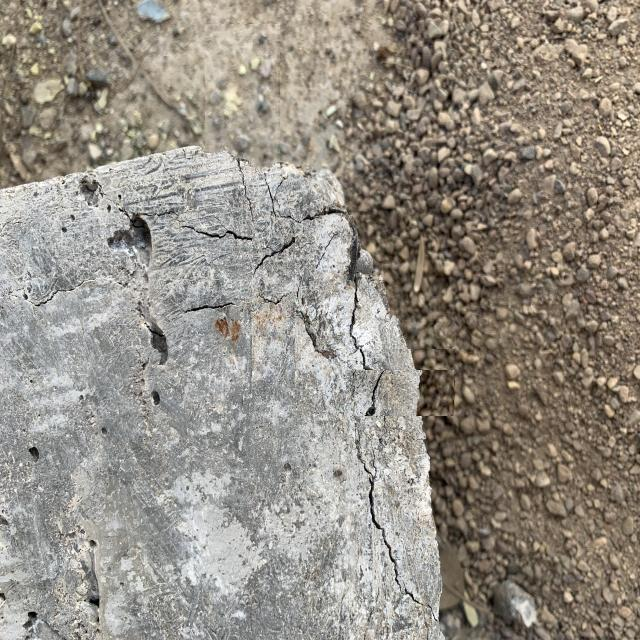diagonal crack: (289, 298, 342, 382), (251, 240, 306, 282)
horizontal crack: (160, 289, 246, 323), (183, 210, 259, 248), (278, 194, 352, 228)
vertical crack: (349, 256, 426, 634)
